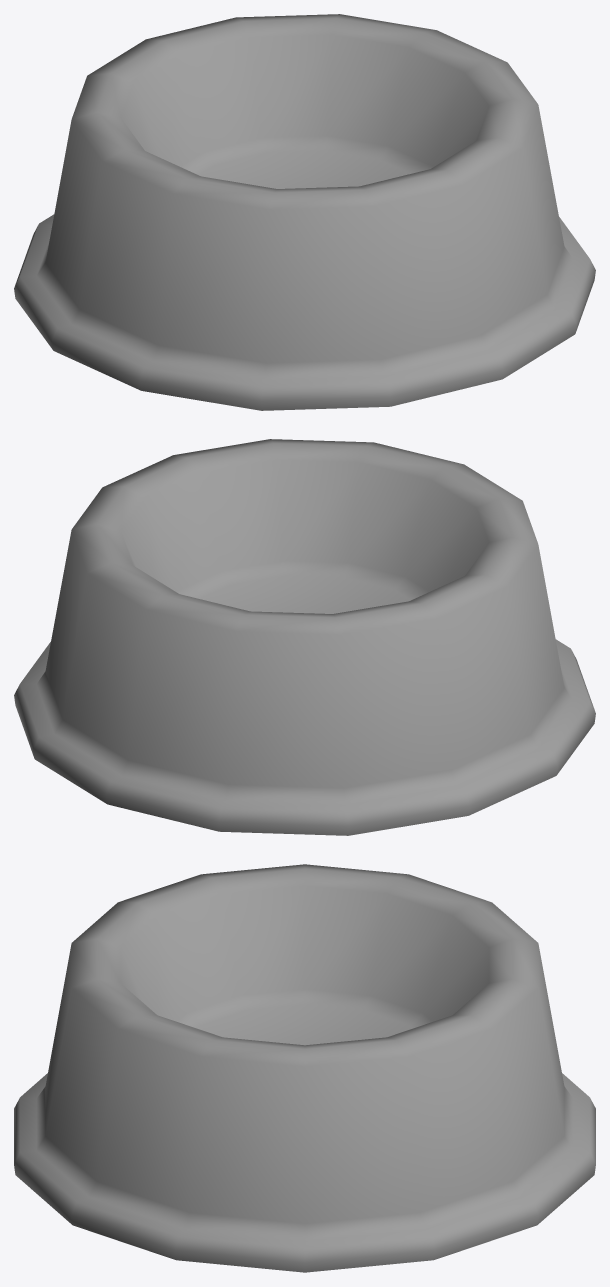
The model's file is DogBowl_01.fbx.
3 renders of one model, top to bottom at view 1: azimuth 30°, elevation 25°; view 2: azimuth 150°, elevation 25°; view 3: azimuth 270°, elevation 25°, orthographic. The views are drawn at different scales.
Visible parts, largest first — view 1: DogBowl_01; view 2: DogBowl_01; view 3: DogBowl_01.
Part boxes in pixels (x1=…): DogBowl_01: x1=14, y1=14, x2=595, y2=410; DogBowl_01: x1=14, y1=439, x2=595, y2=835; DogBowl_01: x1=14, y1=864, x2=595, y2=1272.
Bounding box in the file's own units: 1.43 × 0.498 × 1.4.
